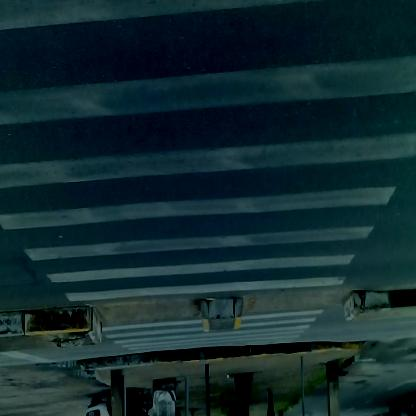crosswalk: (6, 2, 365, 337)
sidewalk: (7, 338, 360, 397)
